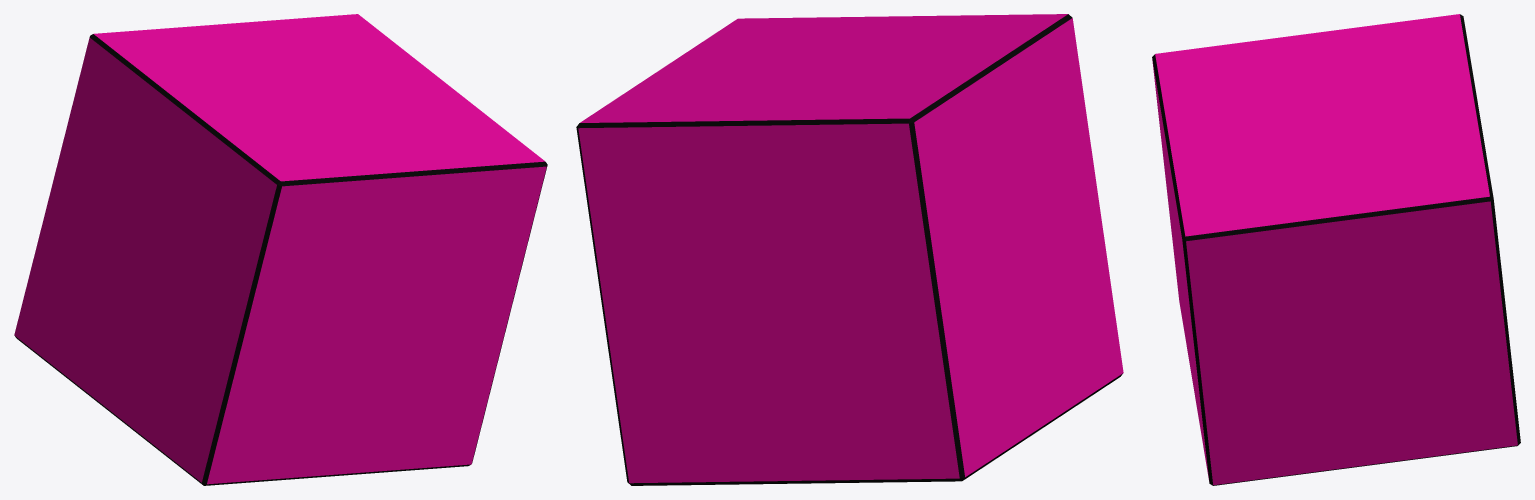
3 views of the same model, side by side, from view 1: azimuth 30°, elevation 25°; view 2: azimuth 150°, elevation 25°; view 3: azimuth 270°, elevation 25° (orthographic). The views are drawn at different scales.
Parts seen in each view (by area): view 1: Cube.021; view 2: Cube.021; view 3: Cube.021.
Boxes of the visible parts, bbox=[...] form: Cube.021: bbox=[14, 14, 547, 485]; Cube.021: bbox=[576, 14, 1123, 485]; Cube.021: bbox=[1152, 14, 1520, 485].
Bounding box in the file's own units: 125 × 127 × 117.
